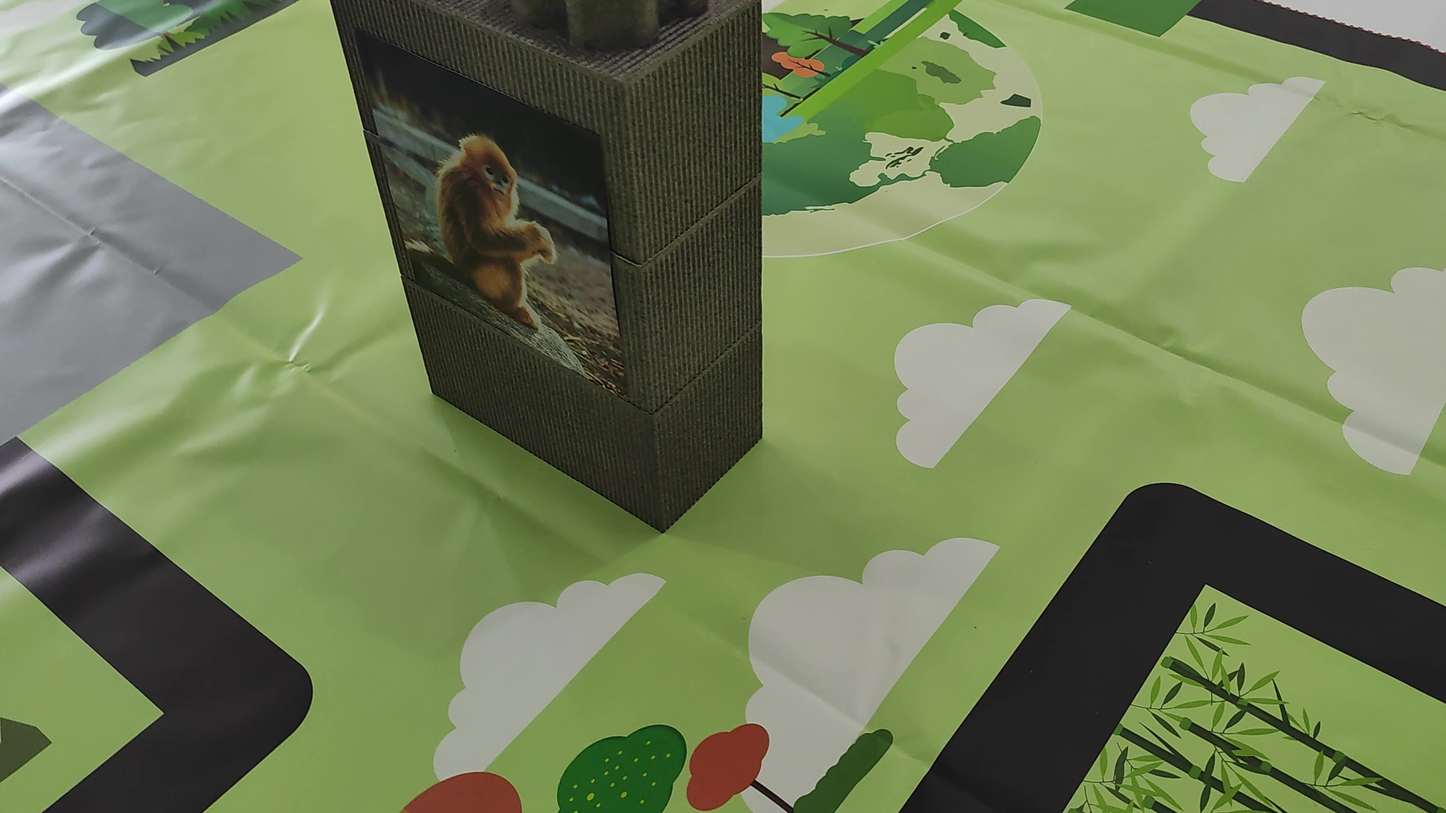monkey: (395, 104, 583, 331)
